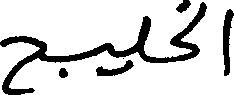ا: (220, 6, 233, 75)
ج: (0, 33, 70, 93)
خ: (163, 0, 198, 64)
ل: (186, 0, 208, 39), (136, 13, 151, 63)
ي: (100, 41, 113, 76)
